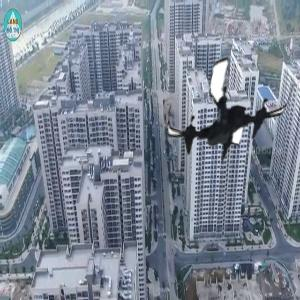drone: (166, 44, 294, 172)
